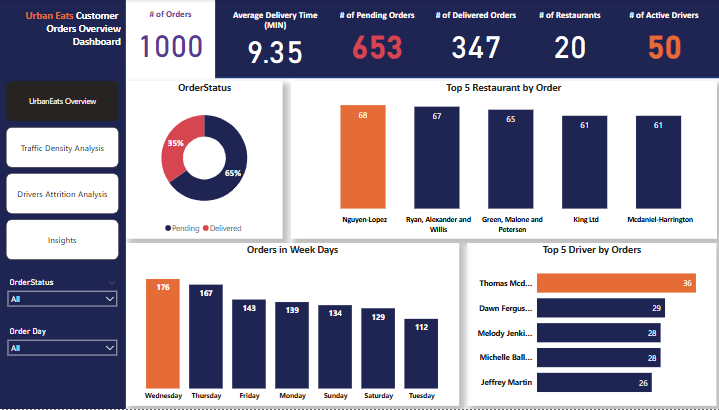

The dashboard page shown, as its layout file describes it:
{"tool":"powerbi","page":{"name":"UrbanEats Overview","canvas":[1280,720],"ordinal":0},"visuals":[{"type":"shape","box":[389.7,0,890.3,139.4],"z":0},{"type":"shape","box":[10.1,0,223.4,720.6],"z":1000},{"type":"pageNavigator","box":[23.5,144.5,198.2,315.8],"z":2000},{"type":"card","title":"# of Orders","fields":{"Values":["CountNonNull(CustomerOrders.OrderID)"]},"box":[233.5,15.1,156.2,100.8],"z":3000},{"type":"card","title":"Average Delivery Time (MIN)","fields":{"Values":["CustomerOrders.AvgDeliveryTime"]},"box":[406.5,16.8,176.4,100.8],"z":4000},{"type":"card","title":"# of Pending Orders","fields":{"Values":["CountNonNull(CustomerOrders.OrderStatus)"]},"box":[582.9,16.8,183.1,100.8],"z":5000},{"type":"card","title":"# of Delivered Orders","fields":{"Values":["CountNonNull(CustomerOrders.OrderStatus)"]},"box":[766,16.8,164.6,100.8],"z":6000},{"type":"card","title":"# of Restaurants","fields":{"Values":["Count(CustomerOrders.RestaurantID)"]},"box":[930.6,16.8,164.6,100.8],"z":7000},{"type":"card","title":"# of Active Drivers","fields":{"Values":["Count(CustomerOrders.DriverID)"]},"box":[1095.2,16.8,164.6,100.8],"z":8000},{"type":"donutChart","title":"OrderStatus","fields":{"Category":["CustomerOrders.OrderStatus"],"Y":["CountNonNull(CustomerOrders.OrderID)"]},"box":[233.5,144.5,275.5,277.2],"z":9000},{"type":"columnChart","title":"Top 5 Restaurant by Order","fields":{"Category":["Restaurants.RestaurantName"],"Y":["CountNonNull(CustomerOrders.OrderID)"]},"box":[522.4,144.5,747.5,277.2],"z":10000},{"type":"barChart","title":"Top 5 Driver by Orders","fields":{"Y":["CountNonNull(CustomerOrders.OrderID)"],"Category":["Drivers.DriverName"]},"box":[831.5,428.3,438.4,285.6],"z":11000},{"type":"columnChart","title":"Orders in Week Days","fields":{"Category":["CustomerOrders.Order Day"],"Y":["CountNonNull(CustomerOrders.OrderID)"]},"box":[233.5,428.3,584.6,285.6],"z":12000},{"type":"textbox","box":[16.8,11.8,211.7,100.8],"z":13000},{"type":"slicer","fields":{"Values":["CustomerOrders.OrderStatus"]},"box":[15.1,483.8,211.7,73.9],"z":14000},{"type":"slicer","fields":{"Values":["CustomerOrders.Order Day"]},"box":[15.1,571.1,211.7,73.9],"z":15000}]}

Visuals, with their boxes in screenshot pixels (x1, y1, x2, y2), scaled from the page's 1280x720 canvas onto the 719x410 screenshot:
shape: <box>219,0,718,79</box>
shape: <box>6,0,131,409</box>
pageNavigator: <box>13,82,125,262</box>
"# of Orders" card: <box>131,9,219,66</box>
"Average Delivery Time (MIN)" card: <box>228,10,327,67</box>
"# of Pending Orders" card: <box>327,10,430,67</box>
"# of Delivered Orders" card: <box>430,10,523,67</box>
"# of Restaurants" card: <box>523,10,615,67</box>
"# of Active Drivers" card: <box>615,10,708,67</box>
"OrderStatus" donutChart: <box>131,82,286,240</box>
"Top 5 Restaurant by Order" columnChart: <box>293,82,713,240</box>
"Top 5 Driver by Orders" barChart: <box>467,244,713,407</box>
"Orders in Week Days" columnChart: <box>131,244,460,407</box>
textbox: <box>9,7,128,64</box>
slicer - CustomerOrders.OrderStatus: <box>8,275,127,318</box>
slicer - CustomerOrders.Order Day: <box>8,325,127,367</box>
